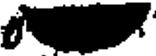Basket: (0, 1, 152, 56)
